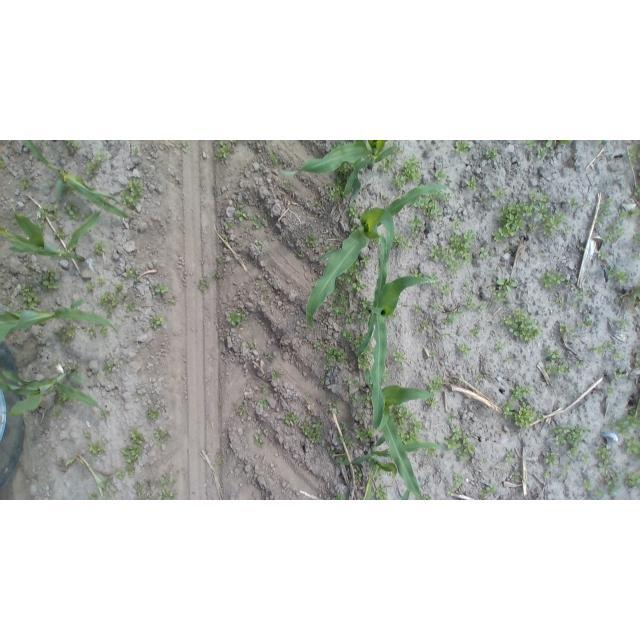Maize: (307, 181, 458, 327), (356, 236, 431, 431), (364, 368, 437, 500), (267, 140, 398, 206), (22, 141, 130, 220), (1, 364, 109, 429), (1, 203, 103, 263), (0, 298, 120, 343), (336, 432, 437, 478), (399, 489, 409, 500)
Weeds: (493, 199, 534, 242), (503, 308, 541, 341), (553, 426, 589, 457), (132, 477, 174, 500), (514, 400, 543, 429), (448, 230, 474, 260), (432, 300, 461, 325), (614, 409, 640, 434), (398, 419, 426, 441), (121, 442, 143, 470), (616, 288, 640, 313), (424, 193, 449, 217), (300, 423, 327, 445), (442, 250, 462, 278), (531, 193, 550, 220), (603, 467, 620, 497), (87, 150, 105, 177), (390, 404, 412, 426), (352, 392, 368, 422), (544, 212, 564, 234), (22, 289, 42, 310), (465, 293, 487, 312), (403, 158, 421, 181), (332, 290, 348, 315), (604, 221, 622, 243), (596, 446, 615, 466), (326, 184, 350, 198), (544, 272, 565, 288), (100, 292, 118, 310), (128, 177, 142, 200), (324, 347, 345, 362), (624, 436, 640, 455), (64, 201, 80, 219), (351, 273, 367, 291), (610, 269, 629, 284), (511, 383, 531, 397), (496, 278, 517, 291), (153, 429, 170, 445), (544, 345, 562, 360), (356, 427, 375, 441), (624, 473, 640, 489), (227, 312, 245, 326), (129, 430, 145, 445), (409, 217, 424, 233), (502, 400, 515, 418), (631, 346, 640, 371), (630, 142, 640, 164), (455, 141, 470, 155), (430, 375, 443, 391), (462, 438, 475, 454), (283, 414, 299, 427), (429, 244, 442, 260), (391, 175, 405, 189), (43, 275, 58, 288), (151, 317, 166, 330), (393, 348, 406, 363), (445, 437, 461, 449), (337, 166, 349, 182), (546, 364, 567, 373), (47, 204, 60, 218), (63, 331, 76, 345), (486, 147, 499, 161), (88, 442, 103, 454), (217, 142, 228, 158), (374, 485, 386, 499), (357, 357, 369, 371), (559, 323, 574, 334), (481, 486, 496, 497), (545, 141, 572, 147), (612, 349, 624, 362), (458, 448, 471, 460), (21, 177, 33, 190), (120, 192, 133, 204), (465, 177, 477, 190), (99, 479, 113, 490), (600, 199, 610, 214), (493, 187, 508, 197), (148, 408, 160, 420), (546, 452, 559, 463), (506, 451, 517, 464), (589, 345, 603, 355), (613, 370, 627, 380), (452, 425, 463, 437), (67, 141, 79, 152), (434, 170, 446, 181), (494, 291, 507, 301), (55, 227, 66, 238), (359, 309, 370, 320), (394, 234, 404, 246), (412, 199, 424, 209), (616, 319, 633, 326), (348, 204, 357, 217), (380, 159, 389, 172), (454, 473, 462, 487), (255, 433, 263, 447), (339, 419, 347, 433), (308, 233, 316, 247), (153, 284, 167, 292), (36, 209, 46, 220), (341, 272, 352, 282), (537, 149, 547, 160), (97, 242, 106, 254), (362, 296, 371, 308), (272, 370, 285, 378), (442, 284, 450, 297), (427, 397, 437, 407), (402, 239, 412, 249), (470, 325, 480, 335), (420, 320, 429, 331), (256, 400, 267, 409), (362, 254, 371, 265), (480, 247, 489, 258), (462, 279, 471, 290), (409, 269, 421, 277), (476, 374, 483, 387), (426, 448, 439, 455), (340, 434, 350, 443), (117, 470, 126, 480), (200, 279, 209, 289), (85, 327, 95, 336), (328, 402, 336, 413), (239, 210, 247, 221), (584, 479, 591, 491), (127, 271, 139, 278), (634, 183, 640, 197), (633, 234, 640, 246), (604, 387, 613, 396), (388, 156, 397, 165), (496, 343, 506, 351), (57, 393, 67, 401), (54, 409, 62, 419), (619, 211, 629, 219), (570, 198, 578, 208), (584, 288, 592, 298), (581, 319, 592, 326), (253, 219, 260, 230), (578, 289, 583, 304), (605, 341, 614, 349), (217, 452, 223, 464), (366, 346, 373, 356), (599, 250, 606, 260), (461, 346, 472, 352), (447, 487, 455, 495), (132, 147, 140, 155), (48, 267, 56, 275), (127, 303, 135, 311), (314, 201, 322, 209), (598, 489, 605, 498), (514, 472, 521, 481), (344, 378, 353, 385), (383, 373, 389, 383), (103, 364, 113, 370), (345, 314, 351, 324), (356, 334, 361, 346), (576, 360, 584, 367), (227, 222, 235, 229), (99, 277, 106, 285), (596, 215, 604, 222), (0, 162, 6, 171), (432, 272, 438, 281), (335, 495, 345, 500), (581, 454, 588, 461), (101, 328, 108, 335), (341, 329, 348, 336), (116, 283, 124, 289), (326, 362, 332, 370), (630, 208, 638, 214), (546, 470, 551, 479), (535, 248, 541, 255), (567, 280, 573, 287), (91, 493, 97, 500), (314, 343, 321, 349), (183, 141, 190, 147), (65, 187, 71, 194), (261, 383, 267, 390), (371, 239, 378, 245), (555, 298, 562, 304), (566, 226, 571, 234), (506, 357, 514, 362), (88, 282, 93, 290), (454, 221, 459, 229), (430, 350, 436, 356), (215, 256, 221, 262), (320, 376, 324, 385), (561, 305, 566, 312), (261, 247, 266, 254), (348, 336, 353, 343), (527, 142, 534, 147), (38, 222, 46, 226), (434, 335, 439, 341), (220, 336, 226, 341), (415, 306, 422, 310), (483, 459, 488, 464), (122, 294, 127, 299), (84, 432, 90, 436), (299, 253, 305, 257), (250, 343, 254, 349), (579, 247, 585, 251), (216, 272, 221, 276), (107, 311, 112, 315), (288, 182, 293, 186)
